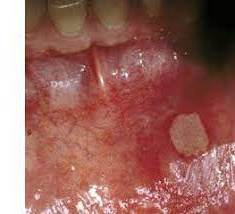Ulcer: (165, 110, 211, 160), (49, 76, 84, 110)
